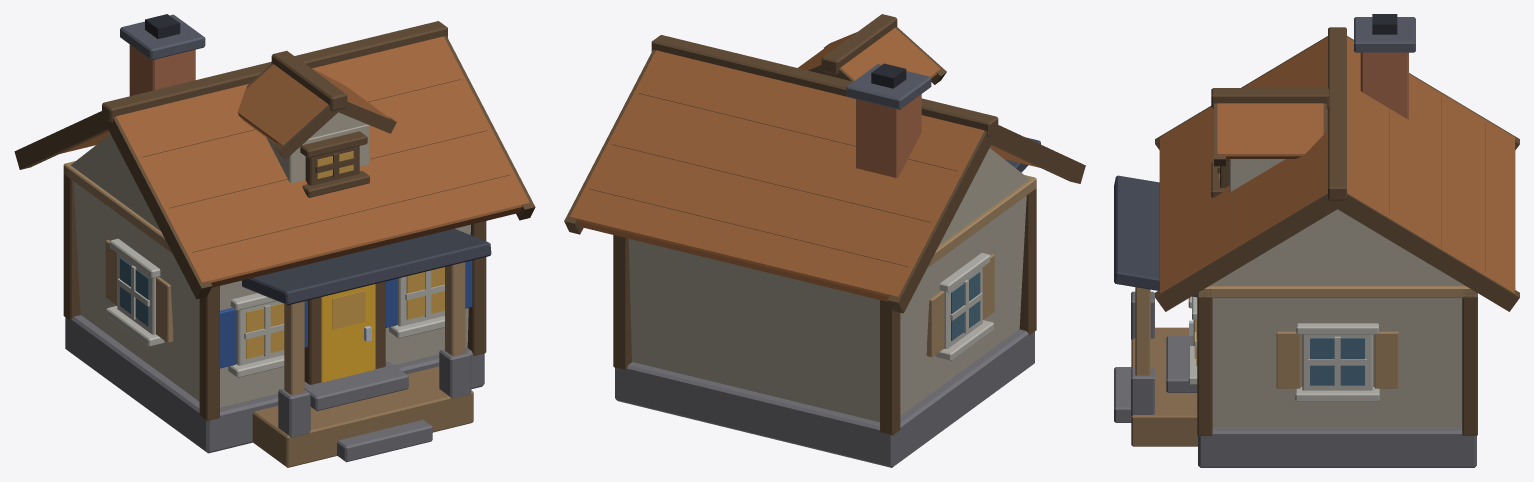
The model's file is Stylized_Building_CottageHouse.fbx.
3 renders of one model, left to right at view 1: azimuth 30°, elevation 25°; view 2: azimuth 150°, elevation 25°; view 3: azimuth 270°, elevation 25°, orthographic. The views are drawn at different scales.
Visible parts, largest first — view 1: Stylized_Building_CottageHouse; view 2: Stylized_Building_CottageHouse; view 3: Stylized_Building_CottageHouse.
Part boxes in pixels (left/top/right/bottom): Stylized_Building_CottageHouse: left=14, top=14, right=535, bottom=467; Stylized_Building_CottageHouse: left=564, top=14, right=1085, bottom=467; Stylized_Building_CottageHouse: left=1114, top=14, right=1519, bottom=467.
Bounding box in the file's own units: 4.42 × 4.38 × 4.72.
